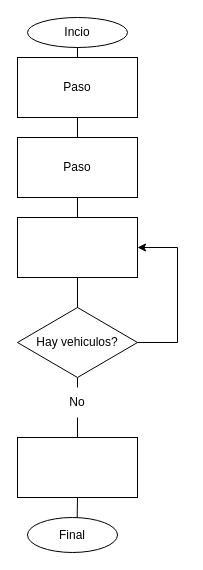
The diagram is 203 pixels wide and 570 high, and some of its shapes have lost their labels. Each missing label, with the box of its shape:
Frenar y mirar hacia los lados: (16, 216, 138, 278)
Pasos x10: (16, 436, 138, 498)
